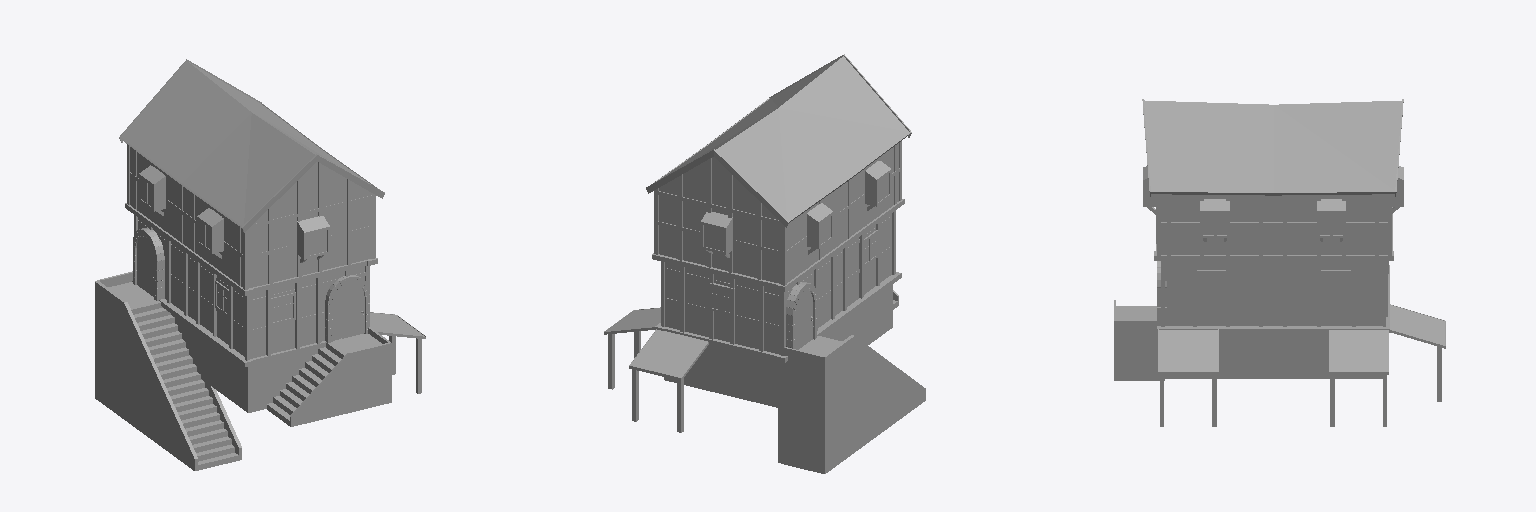
The model's file is JFEUSVCN7W6VQQXHVSVR0YJY6.obj.
3 renders of one model, left to right at view 1: azimuth 30°, elevation 25°; view 2: azimuth 150°, elevation 25°; view 3: azimuth 270°, elevation 25°, orthographic.
Parts seen in each view (by area): view 1: Object_Plaster.jpg, Object_RoofTiles.jpg, Object_Wood.jpg, Object_GreyBricks.jpg, Object_DoorType1_1.jpg, Object_Stone.jpg, Object_WindowAllBroken1.jpg; view 2: Object_Plaster.jpg, Object_RoofTiles.jpg, Object_Wood.jpg, Object_GreyBricks.jpg, Object_WindowAllBroken1.jpg, Object_Stone.jpg, Object_DoorType1_1.jpg; view 3: Object_RoofTiles.jpg, Object_Plaster.jpg, Object_Wood.jpg, Object_GreyBricks.jpg, Object_WindowAllBroken1.jpg.
Part boxes in pixels (x1,y1,x2,y2): Object_Plaster.jpg: (95, 147, 391, 470); Object_RoofTiles.jpg: (122, 61, 423, 335); Object_Wood.jpg: (119, 59, 425, 393); Object_GreyBricks.jpg: (171, 314, 317, 412); Object_DoorType1_1.jpg: (137, 236, 364, 339); Object_Stone.jpg: (133, 227, 369, 342); Object_WindowAllBroken1.jpg: (141, 178, 326, 321); Object_Plaster.jpg: (659, 143, 925, 473); Object_RoofTiles.jpg: (606, 56, 908, 377); Object_Wood.jpg: (604, 54, 911, 432); Object_GreyBricks.jpg: (664, 284, 892, 408); Object_WindowAllBroken1.jpg: (704, 174, 888, 312); Object_Stone.jpg: (786, 282, 816, 348); Object_DoorType1_1.jpg: (796, 290, 812, 349); Object_RoofTiles.jpg: (1144, 100, 1444, 371); Object_Plaster.jpg: (1114, 196, 1387, 380); Object_Wood.jpg: (1142, 99, 1445, 426); Object_GreyBricks.jpg: (1165, 333, 1382, 378); Object_WindowAllBroken1.jpg: (1199, 214, 1347, 294).
Bounding box in the file's own units: 1.87 × 2.5 × 2.45.